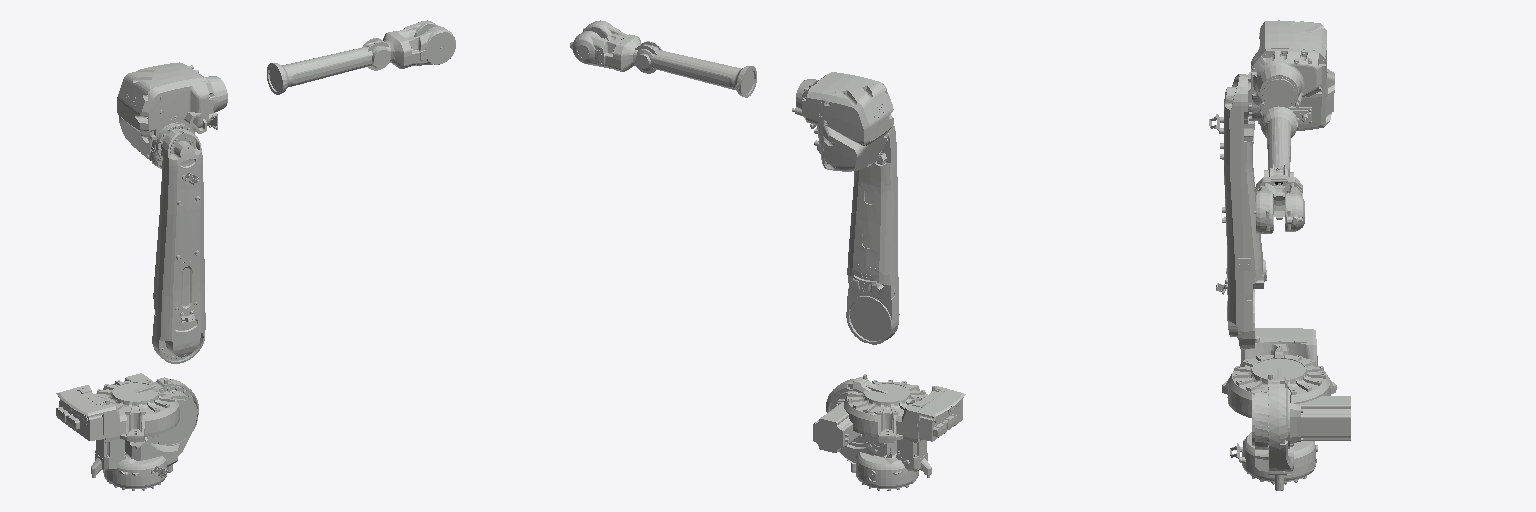
robot.urdf — abb_irb4600_40_255:
<?xml version="1.0" ?>
<!-- =================================================================================== -->
<!-- |    This document was autogenerated by xacro from abb_irb4600_40_255.xacro       | -->
<!-- |    EDITING THIS FILE BY HAND IS NOT RECOMMENDED                                 | -->
<!-- =================================================================================== -->
<robot name="abb_irb4600_40_255">
  <!-- Conversion were obtained from http://www.e-paint.co.uk/Lab_values.asp
       unless otherwise stated. -->
  <!-- IRB4600 -->
  <!-- irb4600 link list -->
  <link name="base_link">
    <inertial>
      <origin xyz="0.0 0.0 0.0"/>
      <mass value="120.00000"/>
      <inertia ixx="-4.98000" ixy="-0.00000" ixz="2.70000" iyy="-5.95200" iyz="-0.00000" izz="0.82800"/>
    </inertial>
    <visual>
      <geometry>
        <mesh filename="package://abb_irb4600_40_255/meshes/visual/base_link.stl"/>
      </geometry>
      <material name="">
        <color rgba="0.7725490 0.7803922 0.7686275 1"/>
      </material>
    </visual>
    <collision>
      <geometry>
        <mesh filename="package://abb_irb4600_40_255/meshes/collision/base_link.stl"/>
      </geometry>
    </collision>
  </link>
  <link name="link_1">
    <inertial>
      <origin xyz="0.18000 0.00000 0.50000"/>
      <mass value="120.00000"/>
      <inertia ixx="-4.98000" ixy="-0.00000" ixz="2.70000" iyy="-5.95200" iyz="-0.00000" izz="0.82800"/>
    </inertial>
    <visual>
      <geometry>
        <mesh filename="package://abb_irb4600_40_255/meshes/visual/link_1.stl"/>
      </geometry>
      <material name="">
        <color rgba="0.7725490 0.7803922 0.7686275 1"/>
      </material>
    </visual>
    <collision>
      <geometry>
        <mesh filename="package://abb_irb4600_40_255/meshes/collision/link_1.stl"/>
      </geometry>
    </collision>
  </link>
  <link name="link_2">
    <inertial>
      <origin xyz="0.94000 0.08000 -0.34000"/>
      <mass value="120.00000"/>
      <inertia ixx="-2.96000" ixy="2.25600" ixz="-9.58800" iyy="-18.72601" iyz="-0.81600" izz="-14.95000"/>
    </inertial>
    <visual>
      <geometry>
        <mesh filename="package://abb_irb4600_40_255/meshes/visual/link_2.stl"/>
      </geometry>
      <material name="">
        <color rgba="0.7725490 0.7803922 0.7686275 1"/>
      </material>
    </visual>
    <collision>
      <geometry>
        <mesh filename="package://abb_irb4600_40_255/meshes/collision/link_2.stl"/>
      </geometry>
    </collision>
  </link>
  <link name="link_3">
    <inertial>
      <origin xyz="0.07000 -0.26600 0.08800"/>
      <mass value="120.00000"/>
      <inertia ixx="1.34500" ixy="-0.55860" ixz="0.18480" iyy="4.65068" iyz="-0.70224" izz="2.76032"/>
    </inertial>
    <visual>
      <geometry>
        <mesh filename="package://abb_irb4600_40_255/meshes/visual/link_3.stl"/>
      </geometry>
      <material name="">
        <color rgba="0.7725490 0.7803922 0.7686275 1"/>
      </material>
    </visual>
    <collision>
      <geometry>
        <mesh filename="package://abb_irb4600_40_255/meshes/collision/link_3.stl"/>
      </geometry>
    </collision>
  </link>
  <link name="link_4">
    <inertial>
      <origin xyz="0.00000 0.00000 1.00000"/>
      <mass value="40.00000"/>
      <inertia ixx="-8.00000" ixy="-0.00000" ixz="-0.00000" iyy="-8.00000" iyz="-0.00000" izz="0.48200"/>
    </inertial>
    <visual>
      <geometry>
        <mesh filename="package://abb_irb4600_40_255/meshes/visual/link_4.stl"/>
      </geometry>
      <material name="">
        <color rgba="0.7725490 0.7803922 0.7686275 1"/>
      </material>
    </visual>
    <collision>
      <geometry>
        <mesh filename="package://abb_irb4600_40_255/meshes/collision/link_4.stl"/>
      </geometry>
    </collision>
  </link>
  <link name="link_5">
    <inertial>
      <origin xyz="0.14000 0.00000 0.00000"/>
      <mass value="10.00000"/>
      <inertia ixx="0.04000" ixy="-0.00000" ixz="-0.00000" iyy="-0.00900" iyz="-0.00000" izz="-0.00400"/>
    </inertial>
    <visual>
      <geometry>
        <mesh filename="package://abb_irb4600_40_255/meshes/visual/link_5.stl"/>
      </geometry>
      <material name="">
        <color rgba="0.7725490 0.7803922 0.7686275 1"/>
      </material>
    </visual>
    <collision>
      <geometry>
        <mesh filename="package://abb_irb4600_40_255/meshes/collision/link_5.stl"/>
      </geometry>
    </collision>
  </link>
  <link name="link_6">
    <inertial>
      <origin xyz="0.08100 -0.09100 0.33200"/>
      <mass value="5.00000"/>
      <inertia ixx="-0.29652" ixy="-0.03686" ixz="0.09396" iyy="-0.28792" iyz="-0.10556" izz="-0.04621"/>
    </inertial>
    <visual>
      <geometry>
        <mesh filename="package://abb_irb4600_40_255/meshes/visual/link_6.stl"/>
      </geometry>
      <material name="">
        <color rgba="0.1882353 0.1960784 0.2039216 1"/>
      </material>
    </visual>
    <collision>
      <geometry>
        <mesh filename="package://abb_irb4600_40_255/meshes/collision/link_6.stl"/>
      </geometry>
    </collision>
  </link>
  <link name="tool0"/>
  <!-- irb4600 joint list -->
  <joint name="joint_1" type="revolute">
    <parent link="base_link"/>
    <child link="link_1"/>
    <origin rpy="0 0 0 " xyz="0 0 0"/>
    <axis xyz="0 0 1"/>
    <limit effort="100000" lower="-3.14159" upper="3.14159" velocity="2.618"/>
    <dynamics damping="0.2" friction="0"/>
  </joint>
  <joint name="joint_2" type="revolute">
    <parent link="link_1"/>
    <child link="link_2"/>
    <origin rpy="0 -0 0 " xyz="0.175 0 0.495"/>
    <axis xyz="0 1 0"/>
    <limit effort="100000" lower="-1.5708" upper="2.61799" velocity="2.618"/>
    <dynamics damping="0.2" friction="0"/>
  </joint>
  <joint name="joint_3" type="revolute">
    <parent link="link_2"/>
    <child link="link_3"/>
    <origin rpy="0 -0 0 " xyz="0 0 1.095"/>
    <axis xyz="0 1 0"/>
    <limit effort="100000" lower="-3.14159" upper="1.309" velocity="2.618"/>
    <dynamics damping="0.2" friction="0"/>
  </joint>
  <joint name="joint_4" type="revolute">
    <parent link="link_3"/>
    <child link="link_4"/>
    <origin rpy="0 -0 0 " xyz="0.332 0 0.175"/>
    <axis xyz="1 0 0"/>
    <limit effort="10000" lower="-6.98132" upper="6.98132" velocity="6.2832"/>
    <dynamics damping="0.2" friction="0"/>
  </joint>
  <joint name="joint_5" type="revolute">
    <parent link="link_4"/>
    <child link="link_5"/>
    <origin rpy="0 -0 0 " xyz="0.939 0 0"/>
    <axis xyz="0 1 0"/>
    <limit effort="100000" lower="-2.18166" upper="2.0944" velocity="6.2832"/>
    <dynamics damping="0.2" friction="0"/>
  </joint>
  <joint name="joint_6" type="revolute">
    <parent link="link_5"/>
    <child link="link_6"/>
    <origin rpy="0 1.57076 0 " xyz="0.135 0 0"/>
    <axis xyz="0 0 1"/>
    <limit effort="100000" lower="-6.98132" upper="6.98132" velocity="7.854"/>
    <dynamics damping="0.2" friction="0"/>
  </joint>
  <joint name="joint_6-tool0" type="fixed">
    <parent link="link_6"/>
    <child link="tool0"/>
    <origin rpy="0 0 0" xyz="0 0 0"/>
  </joint>
  <!-- -->
  <!-- IRB4600 base_link to ABB World Coordinates transform -->
  <link name="base"/>
  <joint name="base_link-base" type="fixed">
    <origin rpy="0 0 0" xyz="0 0 0"/>
    <parent link="base_link"/>
    <child link="base"/>
  </joint>
</robot>

--- Facts derived from the render (not from the file) ---
Views: 3 orthographic renders of the robot side by side, from view 1: azimuth 30°, elevation 25°; view 2: azimuth 150°, elevation 25°; view 3: azimuth 270°, elevation 25°.
Robot: abb_irb4600_40_255 — 9 links, 8 joints (6 revolute, 2 fixed); root link base_link; default pose: every joint at zero.
Links seen in each view (by area): view 1: link_2, link_3, base_link, link_1, link_4, link_5; view 2: link_2, link_3, link_1, base_link, link_4; view 3: link_2, link_1, link_3, base_link, link_4.
Boxes of the visible links, x1,y1,x2,y2 form: link_2: [152, 129, 205, 363]; link_3: [117, 62, 227, 168]; base_link: [56, 379, 179, 442]; link_1: [91, 373, 198, 490]; link_4: [267, 20, 455, 94]; link_5: [363, 38, 390, 70]; link_2: [846, 124, 899, 344]; link_3: [792, 72, 893, 171]; link_1: [813, 374, 931, 490]; base_link: [844, 380, 965, 442]; link_4: [570, 20, 756, 97]; link_2: [1209, 74, 1266, 349]; link_1: [1230, 370, 1350, 490]; link_3: [1248, 20, 1334, 130]; base_link: [1222, 328, 1336, 424]; link_4: [1254, 106, 1304, 233].
Size in the robot's own frame: 2.28 by 0.6322 by 2.26 metres.
7 mesh visuals loaded from 7 distinct referenced files (7 binary STL).
